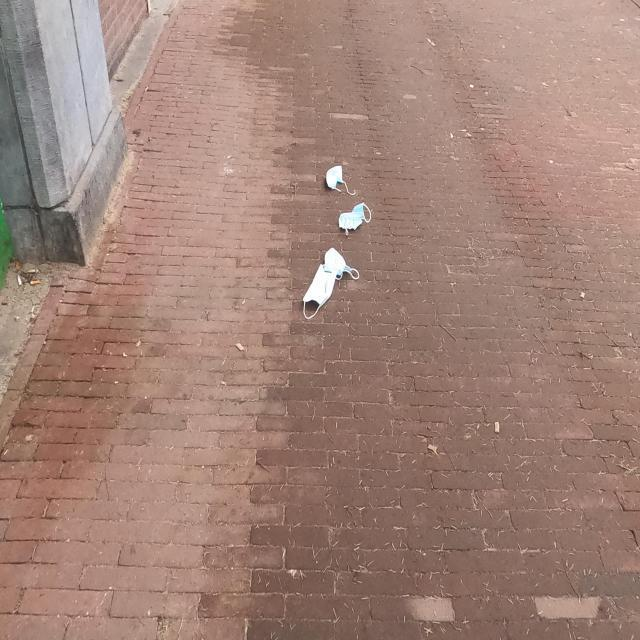Mask: (301, 262, 344, 320), (323, 247, 360, 281), (337, 202, 372, 236), (324, 164, 356, 196)
